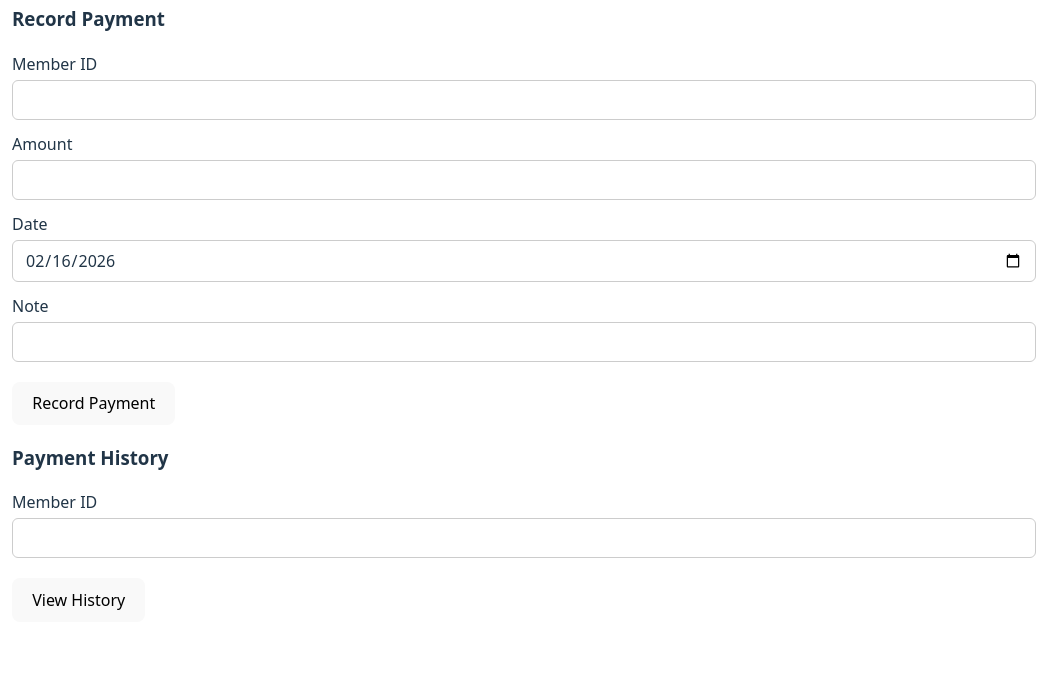
Test: PaymentsPage › displays payment history and balance for a member
The width and height of the screenshot is (1048, 697).
Step 1. Type "5" into the number field with id "hist-user-id" → (524, 538), box [12,518,1036,558]
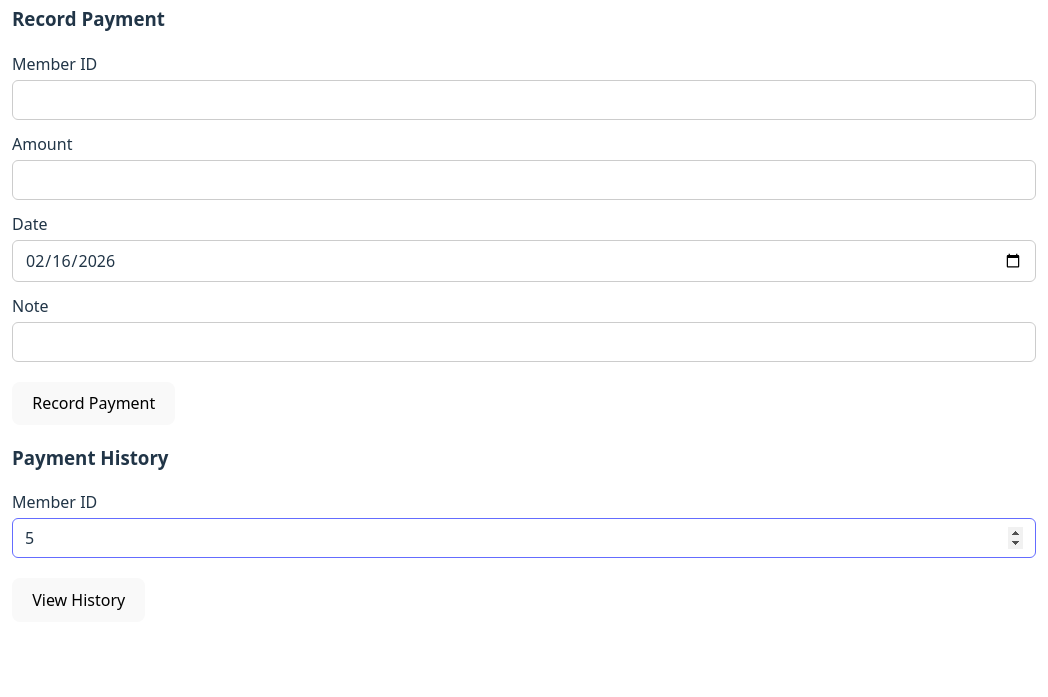
Step 2. Click the button "View History" → (79, 600), box [12,578,145,622]
(page scrolled)
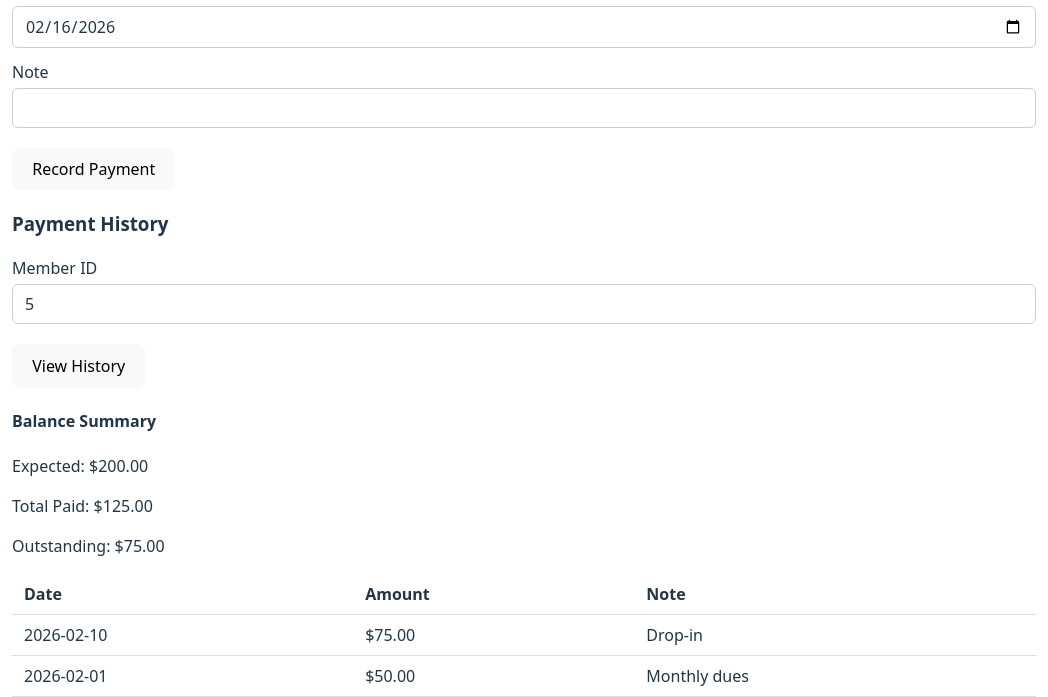
Result: the element with test id "balance-summary" is shown at [12,410,165,557]
Result: the text "Expected: $200.00" is shown at [12,455,148,477]
Result: the text "Total Paid: $125.00" is shown at [12,495,153,517]
